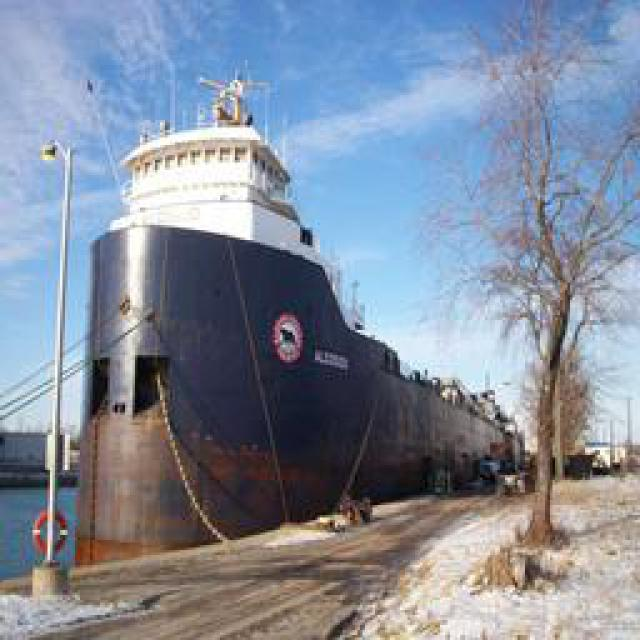Ship: (73, 39, 538, 568)
